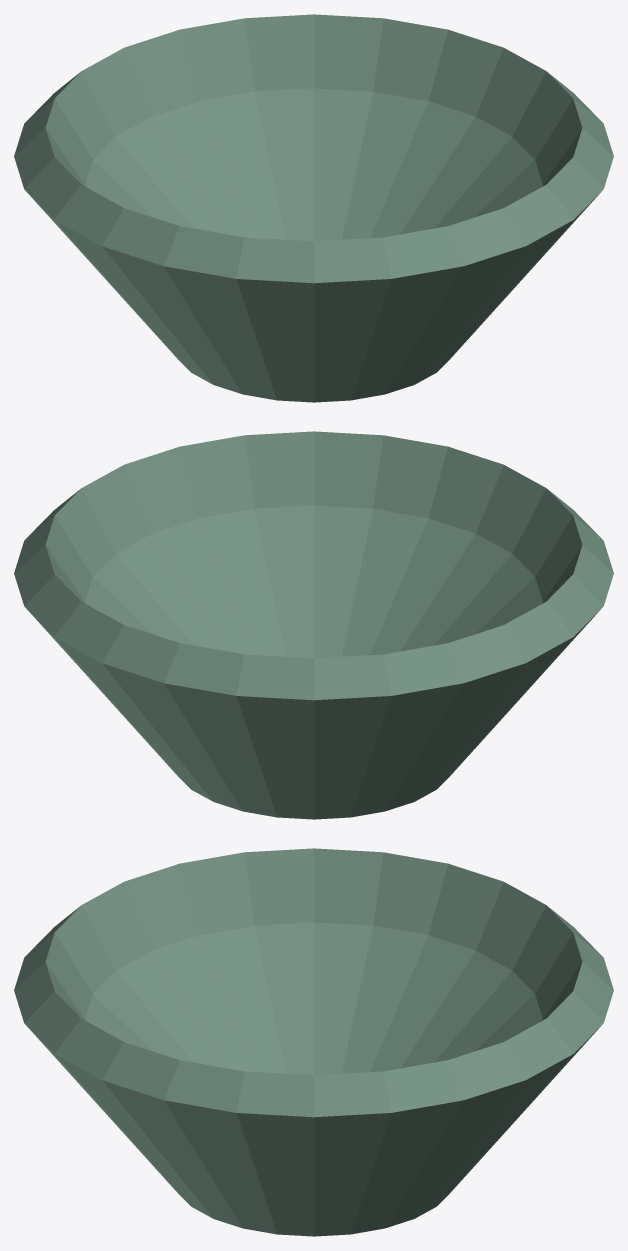
File: serving_bowl.glb
3 views of the same model, one above another, from view 1: azimuth 30°, elevation 25°; view 2: azimuth 150°, elevation 25°; view 3: azimuth 270°, elevation 25° (orthographic).
Parts seen in each view (by area): view 1: Serving • wide ceramic bowl.001; view 2: Serving • wide ceramic bowl.001; view 3: Serving • wide ceramic bowl.001.
Boxes of the visible parts, x1,y1,x2,y2 form: Serving • wide ceramic bowl.001: [14, 14, 613, 402]; Serving • wide ceramic bowl.001: [14, 431, 613, 819]; Serving • wide ceramic bowl.001: [14, 848, 613, 1236].
Bounding box in the file's own units: 0.38 × 0.15 × 0.38.
